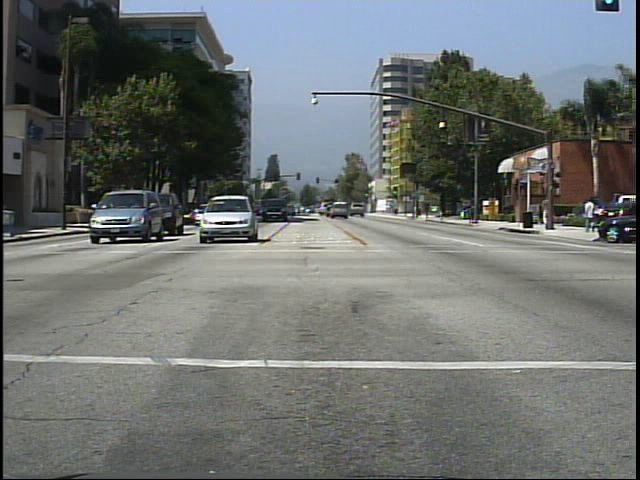person: (535, 193, 555, 235), (580, 196, 597, 235)
